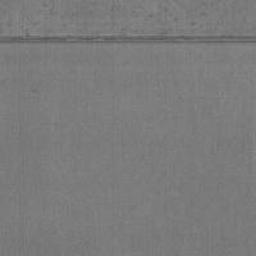Welding line: (0, 33, 256, 46)
